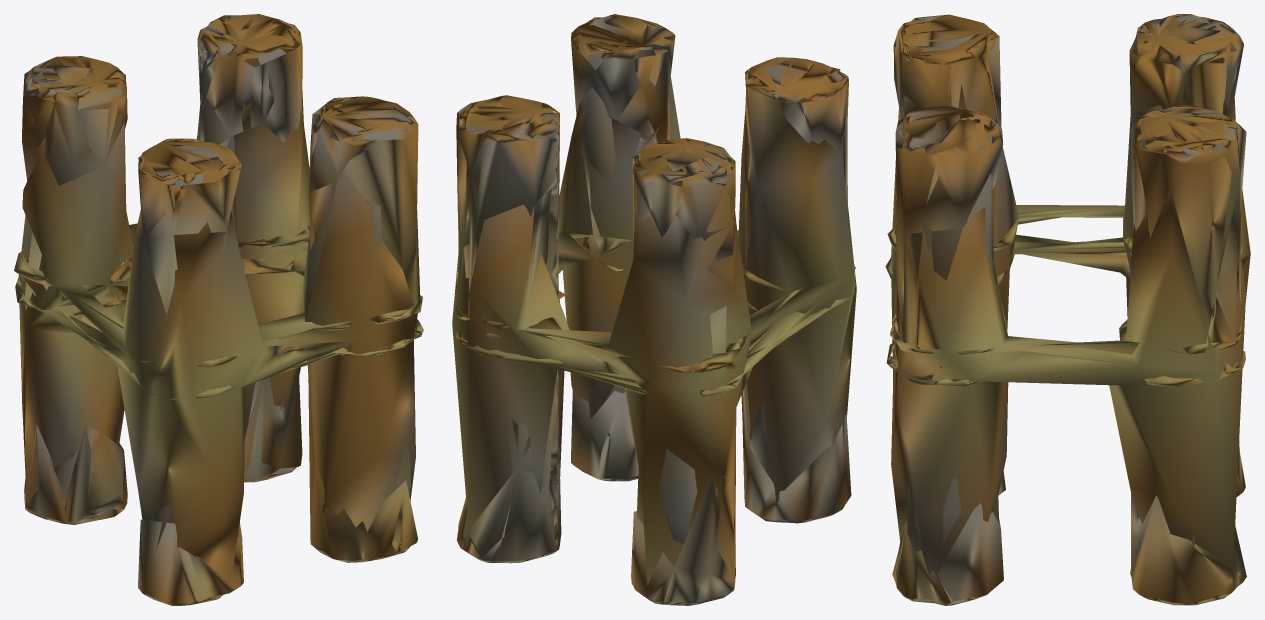
File: gen3d-dock-piling-lod0.glb
3 renders of one model, left to right at view 1: azimuth 30°, elevation 25°; view 2: azimuth 150°, elevation 25°; view 3: azimuth 270°, elevation 25°, orthographic. The views are drawn at different scales.
Visible parts, largest first — view 1: part_0; view 2: part_0; view 3: part_0.
Boxes of the visible parts, bbox=[...] form: part_0: bbox=[14, 14, 423, 605]; part_0: bbox=[452, 14, 856, 605]; part_0: bbox=[885, 14, 1250, 605].
Size of the model in its own units: 0.6861 by 0.9999 by 0.7139.
